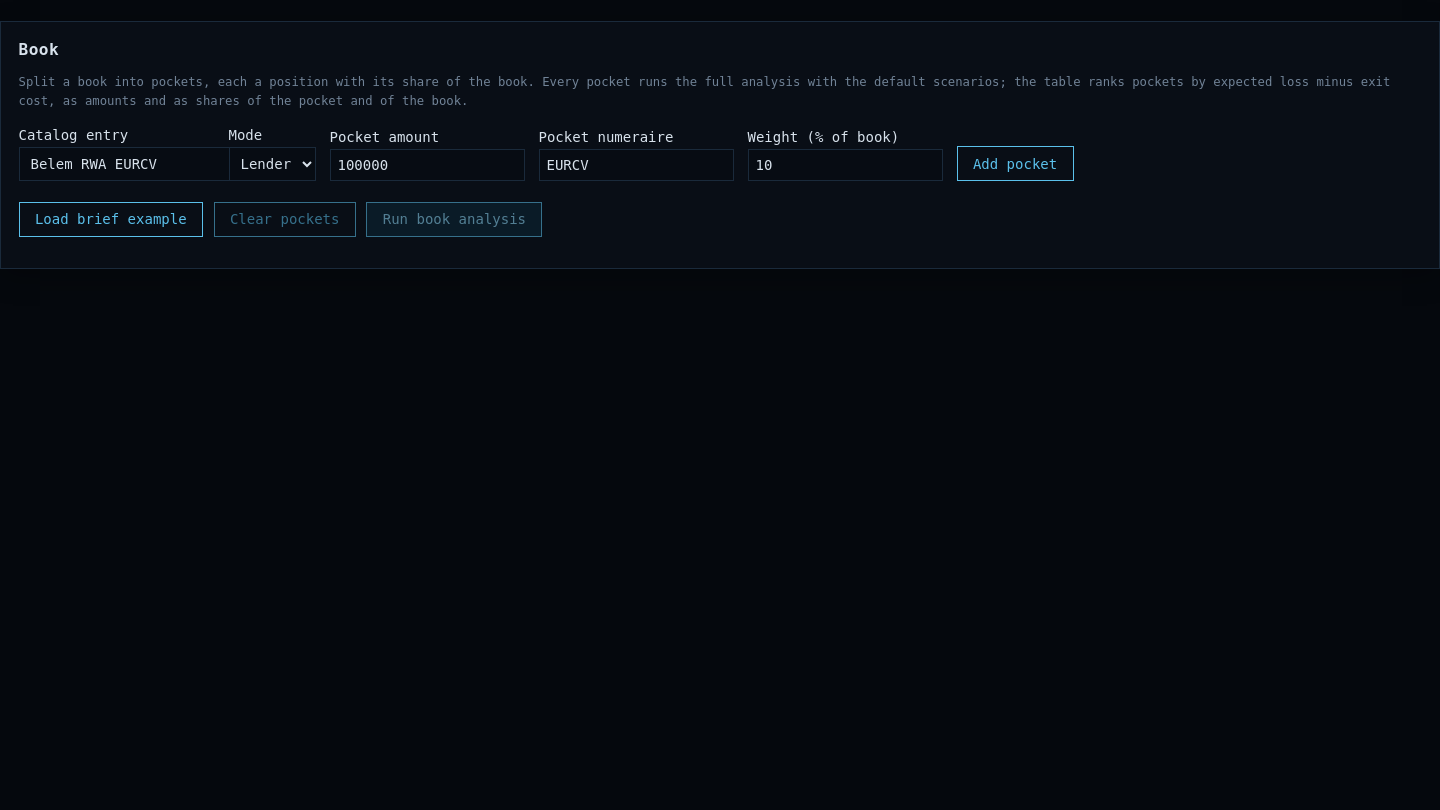
BookPanel › shows a failed run as an alert
The width and height of the screenshot is (1440, 810).
What coordinates should you click on to do the following:
click the button "Load brief example"
I would click on:
 (111, 219)
Its box is [18,202,203,237].
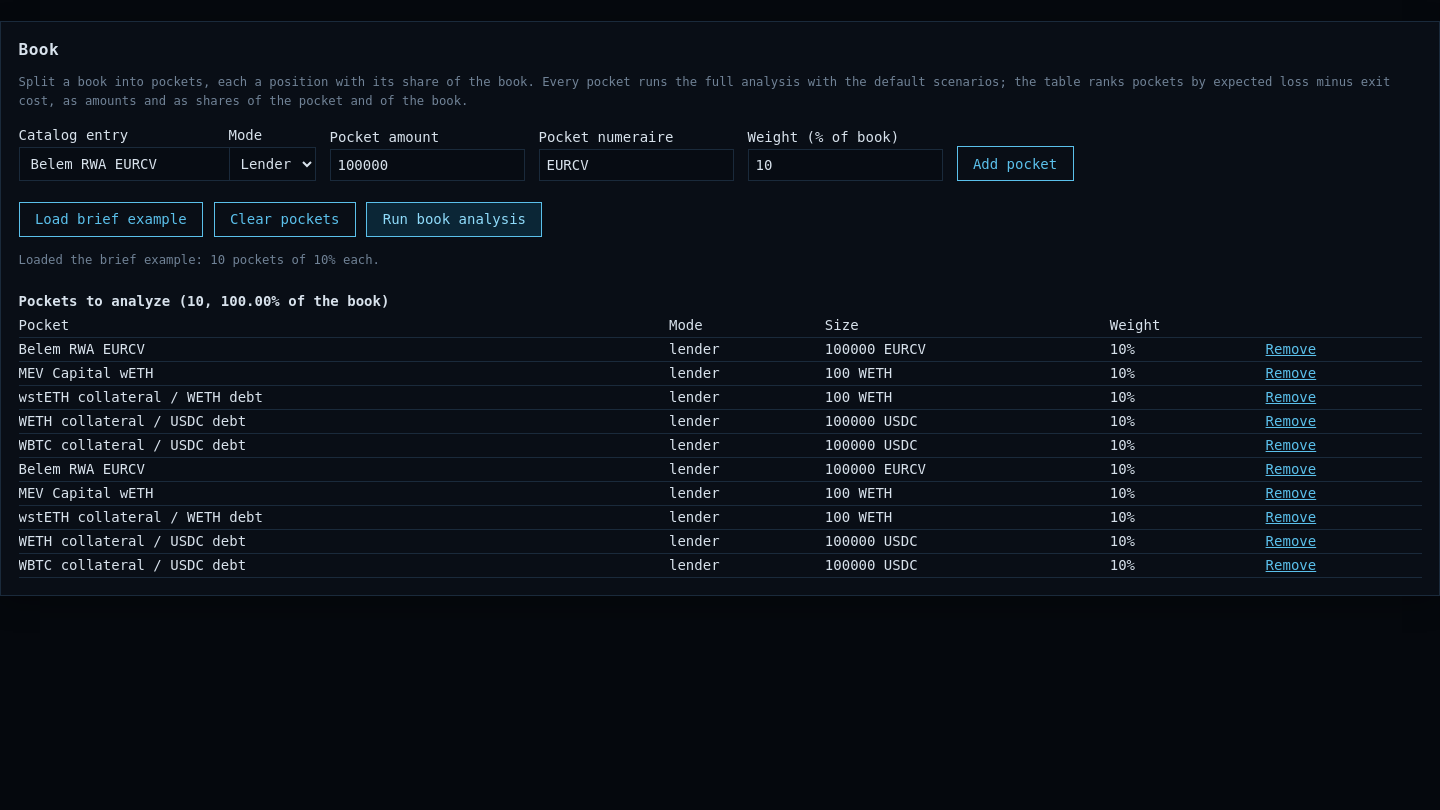
What coordinates should you click on to do the following:
click the button "Run book analysis"
I would click on:
 (454, 219)
Its box is [366,202,542,237].
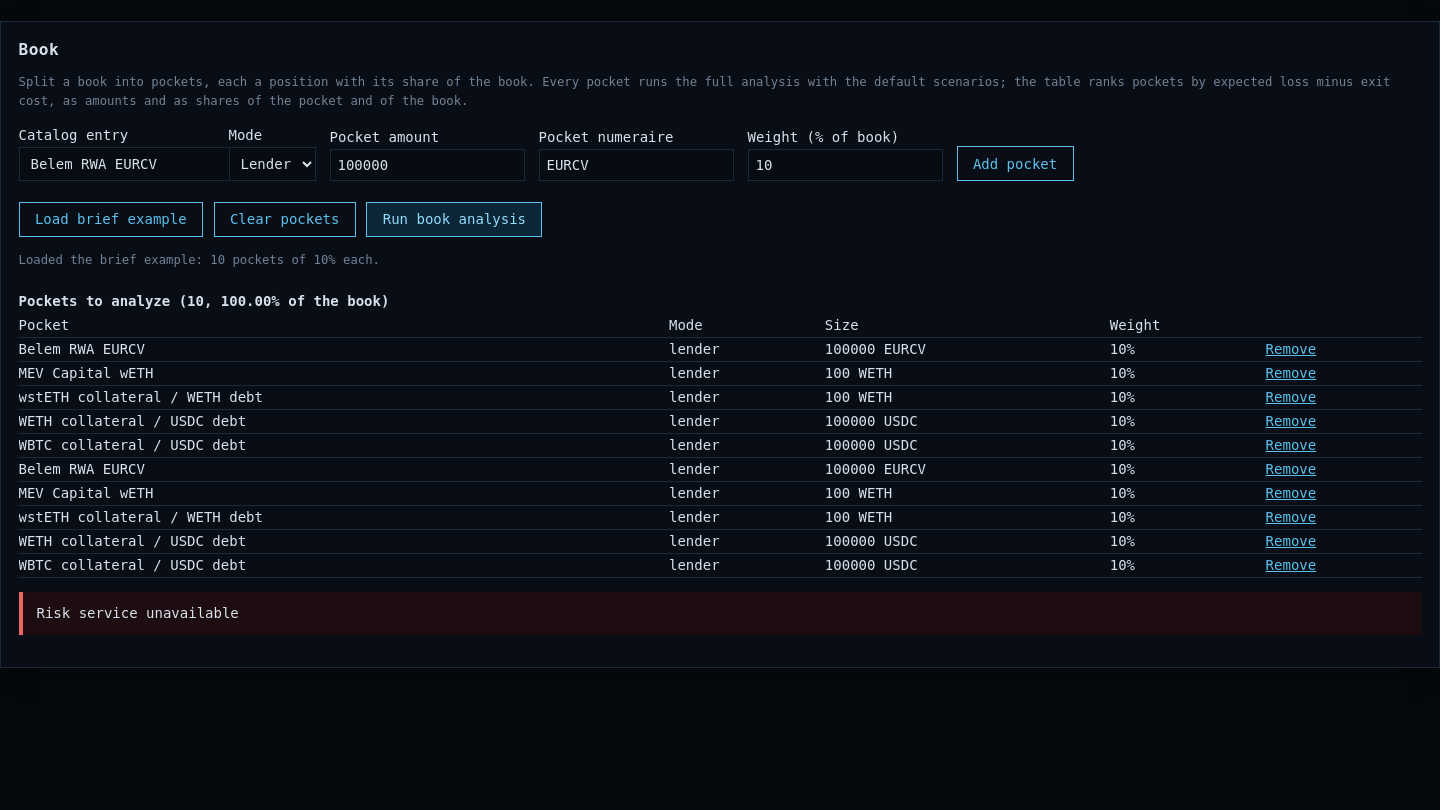
Now the message "Risk service unavailable" is shown, box [18,592,1422,635]
